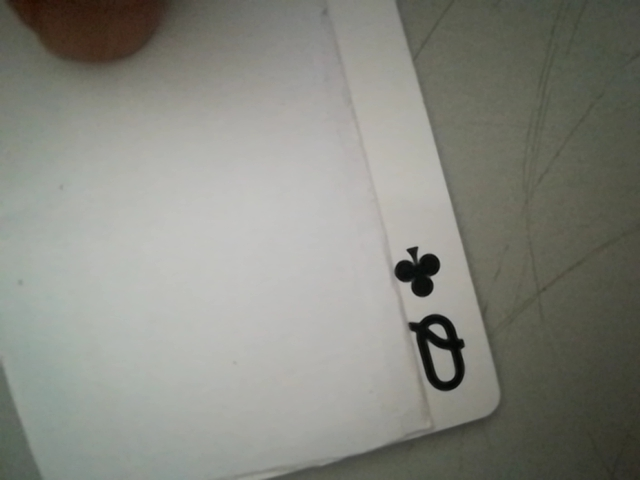mh q: (383, 236, 483, 405)
